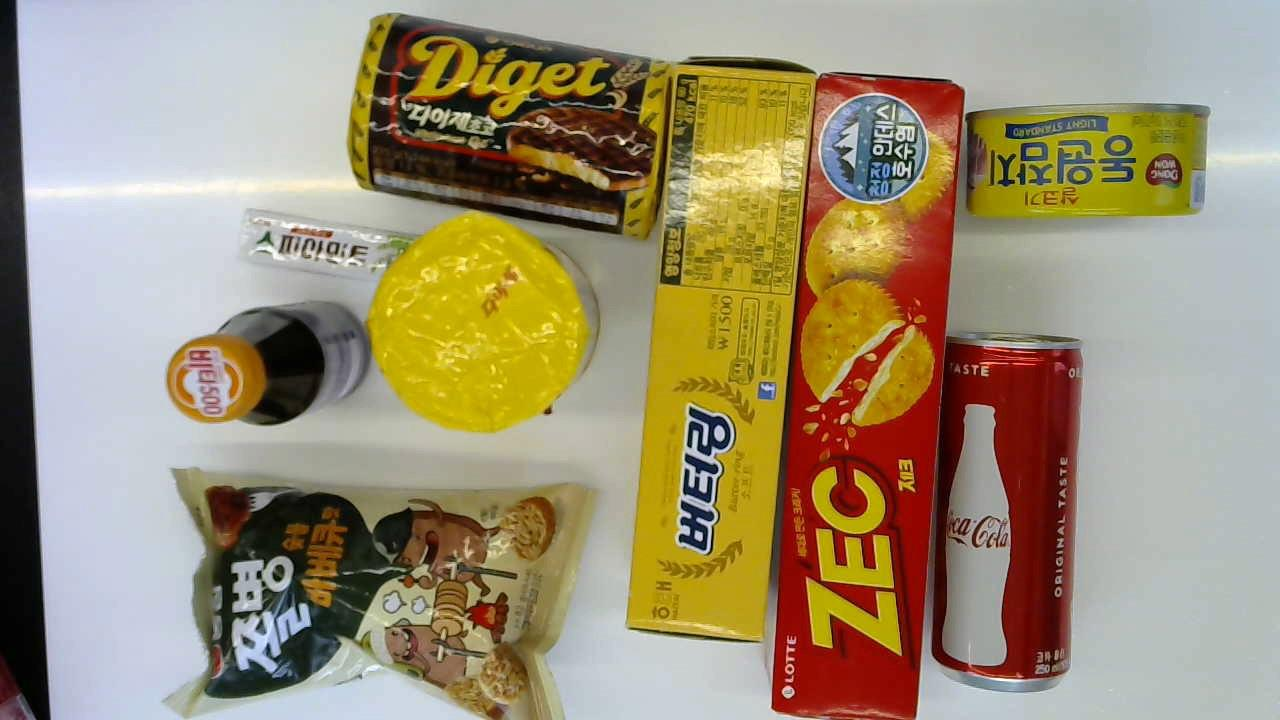buttering: (625, 54, 816, 648)
coke: (930, 332, 1083, 692)
diget_choco: (348, 11, 673, 237)
diget_ori: (368, 210, 597, 434)
jjolbyung_ori: (161, 466, 606, 720)
spearmint: (231, 205, 419, 280)
tuna: (965, 101, 1207, 216)
vita500: (164, 302, 368, 427)
zec: (767, 68, 963, 720)
